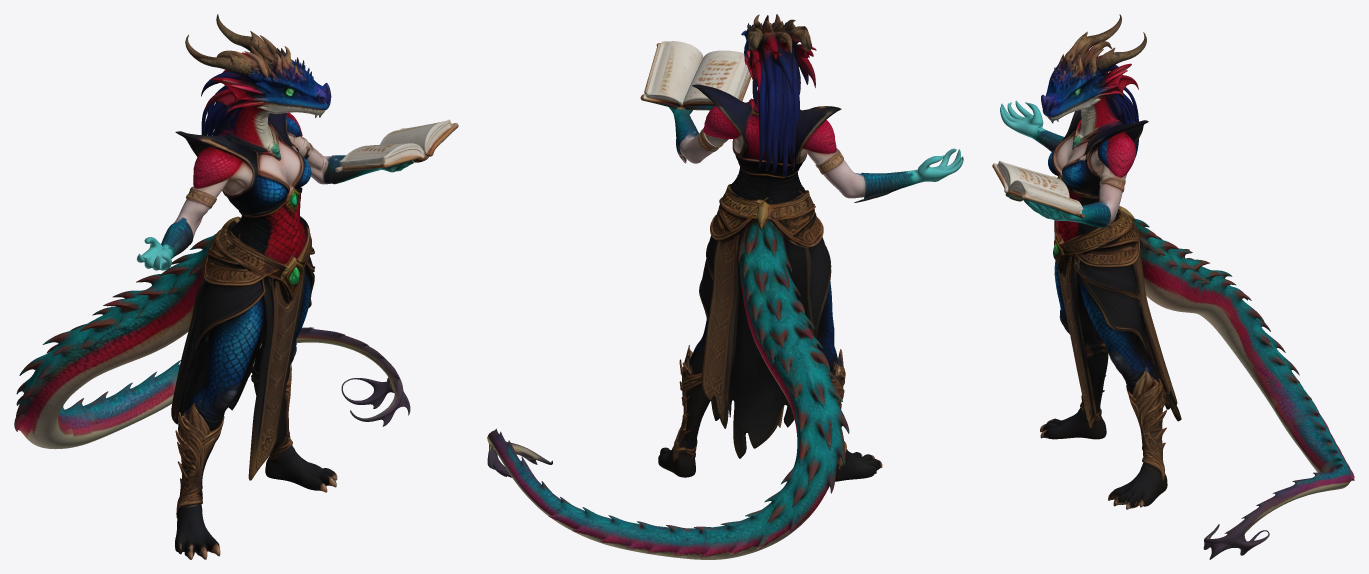
Rendered from dragonborn_mage_full_female_01.glb.
3 renders of one model, left to right at view 1: azimuth 30°, elevation 25°; view 2: azimuth 150°, elevation 25°; view 3: azimuth 270°, elevation 25°, orthographic. The views are drawn at different scales.
Visible parts, largest first — view 1: material; view 2: material; view 3: material.
Boxes of the visible parts, x1,y1,x2,y2 form: material: (14, 14, 458, 559); material: (487, 14, 963, 559); material: (992, 14, 1354, 559).
Bounding box in the file's own units: 0.7669 × 0.9304 × 0.708.
1 material, 1 textured.
